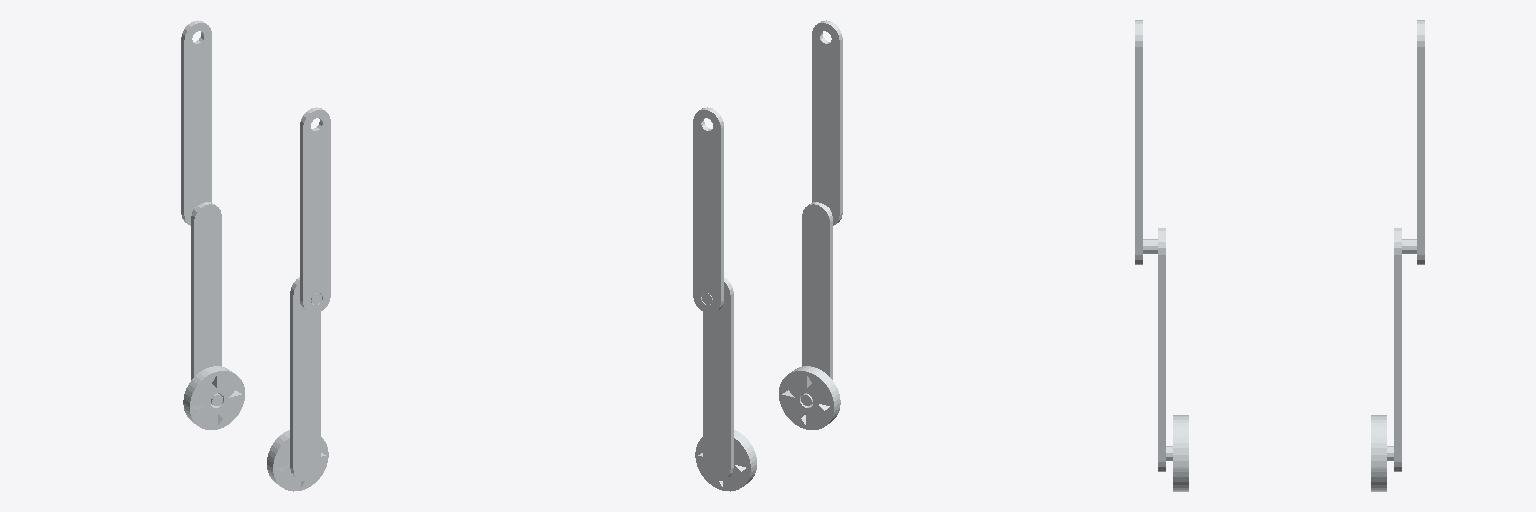
robot.urdf — Vertical_ver_mesh:
<?xml version="1.0" encoding="utf-8"?>
<!-- This URDF was automatically created by SolidWorks to URDF Exporter! Originally created by [author] ([email redacted]) 
     Commit Version: 1.6.0-4-g7f85cfe  Build Version: 1.6.7995.38578
     For more information, please see http://wiki.ros.org/sw_urdf_exporter -->
<robot
  name="Vertical_ver_mesh">
  <link
    name="base_link">
    <inertial>
      <origin
        xyz="0 2.77555756156289E-17 0"
        rpy="0 0 0" />
      <mass
        value="8.15089380098816" />
      <inertia
        ixx="0.0688906731120014"
        ixy="-9.96364855855236E-19"
        ixz="-1.87350135405496E-19"
        iyy="0.0135025446900494"
        iyz="1.95156391047391E-18"
        izz="0.0688906731120014" />
    </inertial>
    <visual>
      <origin
        xyz="0 0 0"
        rpy="0 0 0" />
      <geometry>
        <mesh
          filename="package://Vertical_ver_mesh/meshes/base_link.STL" />
      </geometry>
      <material
        name="">
        <color
          rgba="0.898039215686275 0.917647058823529 0.929411764705882 1" />
      </material>
    </visual>
    <collision>
      <origin
        xyz="0 0 0"
        rpy="0 0 0" />
      <geometry>
        <mesh
          filename="package://Vertical_ver_mesh/meshes/base_link.STL" />
      </geometry>
    </collision>
  </link>
  <link
    name="left_thigh_link">
    <inertial>
      <origin
        xyz="0.15 2.77555756156289E-17 -0.00499999999999995"
        rpy="0 0 0" />
      <mass
        value="0.437487209630772" />
      <inertia
        ixx="9.56832762179494E-05"
        ixy="-6.11750430870803E-21"
        ixz="8.93355061557269E-22"
        iyy="0.00394852049291032"
        iyz="-8.09744522547508E-22"
        izz="0.00403691231563443" />
    </inertial>
    <visual>
      <origin
        xyz="0 0 0"
        rpy="0 0 0" />
      <geometry>
        <mesh
          filename="package://Vertical_ver_mesh/meshes/left_thigh_link.STL" />
      </geometry>
      <material
        name="">
        <color
          rgba="0.898039215686275 0.917647058823529 0.929411764705882 1" />
      </material>
    </visual>
    <collision>
      <origin
        xyz="0 0 0"
        rpy="0 0 0" />
      <geometry>
        <mesh
          filename="package://Vertical_ver_mesh/meshes/left_thigh_link.STL" />
      </geometry>
    </collision>
  </link>
  <joint
    name="left_thigh_joint"
    type="revolute">
    <origin
      xyz="0 0.18 0"
      rpy="1.5707963267949 1.5707963267949 0" />
    <parent
      link="base_link" />
    <child
      link="left_thigh_link" />
    <axis
      xyz="0 0 1" />
    <limit
      lower="-3.14"
      upper="3.14"
      effort="0"
      velocity="0" />
  </joint>
  <link
    name="left_shank_link">
    <inertial>
      <origin
        xyz="0.15 5.55111512312578E-17 0.0350000000000001"
        rpy="0 0 0" />
      <mass
        value="0.508908177017483" />
      <inertia
        ixx="0.000121922183215571"
        ixy="1.31960373453714E-19"
        ixz="-0.000152681402964464"
        iyy="0.00558173116610893"
        iyz="6.67539161878598E-21"
        izz="0.00564767066545193" />
    </inertial>
    <visual>
      <origin
        xyz="0 0 0"
        rpy="0 0 0" />
      <geometry>
        <mesh
          filename="package://Vertical_ver_mesh/meshes/left_shank_link.STL" />
      </geometry>
      <material
        name="">
        <color
          rgba="0.898039215686275 0.917647058823529 0.929411764705882 1" />
      </material>
    </visual>
    <collision>
      <origin
        xyz="0 0 0"
        rpy="0 0 0" />
      <geometry>
        <mesh
          filename="package://Vertical_ver_mesh/meshes/left_shank_link.STL" />
      </geometry>
    </collision>
  </link>
  <joint
    name="left_knee_joint"
    type="revolute">
    <origin
      xyz="0.3 0 -0.01"
      rpy="0 0 0" />
    <parent
      link="left_thigh_link" />
    <child
      link="left_shank_link" />
    <axis
      xyz="0 0 1" />
    <limit
      lower="-3.14"
      upper="3.14"
      effort="0"
      velocity="0" />
  </joint>
  <link
    name="left_wheel_link">
    <inertial>
      <origin
        xyz="-5.55111512312578E-17 1.38777878078145E-16 0.06"
        rpy="0 0 0" />
      <mass
        value="0.370607820219959" />
      <inertia
        ixx="0.000261554099622148"
        ixy="4.66568639571121E-20"
        ixz="4.25241268224465E-21"
        iyy="0.000261554099622148"
        iyz="9.63342209100677E-21"
        izz="0.000498401011229632" />
    </inertial>
    <visual>
      <origin
        xyz="0 0 0"
        rpy="0 0 0" />
      <geometry>
        <mesh
          filename="package://Vertical_ver_mesh/meshes/left_wheel_link.STL" />
      </geometry>
      <material
        name="">
        <color
          rgba="0.898039215686275 0.917647058823529 0.929411764705882 1" />
      </material>
    </visual>
    <collision>
      <origin
        xyz="0 0 0"
        rpy="0 0 0" />
      <geometry>
        <mesh
          filename="package://Vertical_ver_mesh/meshes/left_wheel_link.STL" />
      </geometry>
    </collision>
  </link>
  <joint
    name="left_wheel_joint"
    type="continuous">
    <origin
      xyz="0.3 0 0"
      rpy="0 0 0" />
    <parent
      link="left_shank_link" />
    <child
      link="left_wheel_link" />
    <axis
      xyz="0 0 1" />
  </joint>
  <link
    name="right_thigh_link">
    <inertial>
      <origin
        xyz="0.15 -3.77475828372553E-15 0.005"
        rpy="0 0 0" />
      <mass
        value="0.437487209630772" />
      <inertia
        ixx="9.56832762179493E-05"
        ixy="-6.11750430870793E-21"
        ixz="8.09603024536317E-22"
        iyy="0.00394852049291032"
        iyz="1.07202607386873E-21"
        izz="0.00403691231563442" />
    </inertial>
    <visual>
      <origin
        xyz="0 0 0"
        rpy="0 0 0" />
      <geometry>
        <mesh
          filename="package://Vertical_ver_mesh/meshes/right_thigh_link.STL" />
      </geometry>
      <material
        name="">
        <color
          rgba="0.898039215686275 0.917647058823529 0.929411764705882 1" />
      </material>
    </visual>
    <collision>
      <origin
        xyz="0 0 0"
        rpy="0 0 0" />
      <geometry>
        <mesh
          filename="package://Vertical_ver_mesh/meshes/right_thigh_link.STL" />
      </geometry>
    </collision>
  </link>
  <joint
    name="right_hip_joint"
    type="revolute">
    <origin
      xyz="0 -0.18 0"
      rpy="1.5707963267949 1.5707963267949 0" />
    <parent
      link="base_link" />
    <child
      link="right_thigh_link" />
    <axis
      xyz="0 0 -1" />
    <limit
      lower="-3.14"
      upper="3.14"
      effort="0"
      velocity="0" />
  </joint>
  <link
    name="right_shank_link">
    <inertial>
      <origin
        xyz="0.15 -2.77555756156289E-17 -0.035"
        rpy="0 0 0" />
      <mass
        value="0.508908177017482" />
      <inertia
        ixx="0.000121922183215571"
        ixy="8.70265230160587E-20"
        ixz="0.000152681402964464"
        iyy="0.00558173116610893"
        iyz="-4.29333271220474E-21"
        izz="0.00564767066545193" />
    </inertial>
    <visual>
      <origin
        xyz="0 0 0"
        rpy="0 0 0" />
      <geometry>
        <mesh
          filename="package://Vertical_ver_mesh/meshes/right_shank_link.STL" />
      </geometry>
      <material
        name="">
        <color
          rgba="0.898039215686275 0.917647058823529 0.929411764705882 1" />
      </material>
    </visual>
    <collision>
      <origin
        xyz="0 0 0"
        rpy="0 0 0" />
      <geometry>
        <mesh
          filename="package://Vertical_ver_mesh/meshes/right_shank_link.STL" />
      </geometry>
    </collision>
  </link>
  <joint
    name="right_knee_joint"
    type="revolute">
    <origin
      xyz="0.3 0 0.01"
      rpy="0 0 0" />
    <parent
      link="right_thigh_link" />
    <child
      link="right_shank_link" />
    <axis
      xyz="0 0 1" />
    <limit
      lower="-3.14"
      upper="3.14"
      effort="0"
      velocity="0" />
  </joint>
  <link
    name="right_wheel_link">
    <inertial>
      <origin
        xyz="-1.66533453693773E-16 -2.77555756156289E-17 -0.06"
        rpy="0 0 0" />
      <mass
        value="0.370607820219958" />
      <inertia
        ixx="0.000261554099622148"
        ixy="5.6951385174276E-20"
        ixz="-2.37921577684259E-23"
        iyy="0.000261554099622148"
        iyz="5.98226473475898E-21"
        izz="0.000498401011229632" />
    </inertial>
    <visual>
      <origin
        xyz="0 0 0"
        rpy="0 0 0" />
      <geometry>
        <mesh
          filename="package://Vertical_ver_mesh/meshes/right_wheel_link.STL" />
      </geometry>
      <material
        name="">
        <color
          rgba="0.898039215686275 0.917647058823529 0.929411764705882 1" />
      </material>
    </visual>
    <collision>
      <origin
        xyz="0 0 0"
        rpy="0 0 0" />
      <geometry>
        <mesh
          filename="package://Vertical_ver_mesh/meshes/right_wheel_link.STL" />
      </geometry>
    </collision>
  </link>
  <joint
    name="right_wheel_joint"
    type="continuous">
    <origin
      xyz="0.3 0 0"
      rpy="0 0 0" />
    <parent
      link="right_shank_link" />
    <child
      link="right_wheel_link" />
    <axis
      xyz="0 0 -1" />
  </joint>
</robot>

--- Render facts (derived) ---
The picture shows the robot from 3 angles, left to right: view 1: azimuth 30°, elevation 25°; view 2: azimuth 150°, elevation 25°; view 3: azimuth 270°, elevation 25°; orthographic projection.
Model Vertical_ver_mesh with 7 links and 6 joints (4 revolute, 2 continuous), rooted at base_link, posed all joints at 0.
Visible links, largest first — view 1: right_thigh_link, left_thigh_link, right_shank_link, left_shank_link, left_wheel_link, right_wheel_link; view 2: left_thigh_link, right_thigh_link, left_shank_link, right_shank_link, right_wheel_link, left_wheel_link; view 3: left_shank_link, right_shank_link, left_thigh_link, right_thigh_link, left_wheel_link, right_wheel_link.
Boxes of the visible links, bbox=[...] form: right_thigh_link: bbox=[300, 107, 330, 313]; left_thigh_link: bbox=[181, 20, 211, 225]; right_shank_link: bbox=[290, 277, 321, 480]; left_shank_link: bbox=[191, 202, 222, 405]; left_wheel_link: bbox=[183, 366, 244, 429]; right_wheel_link: bbox=[267, 430, 328, 491]; left_thigh_link: bbox=[693, 107, 723, 313]; right_thigh_link: bbox=[812, 20, 842, 225]; left_shank_link: bbox=[702, 277, 733, 480]; right_shank_link: bbox=[801, 202, 832, 405]; right_wheel_link: bbox=[779, 366, 840, 429]; left_wheel_link: bbox=[695, 430, 756, 491]; left_shank_link: bbox=[1387, 228, 1416, 471]; right_shank_link: bbox=[1143, 228, 1172, 471]; left_thigh_link: bbox=[1417, 20, 1424, 264]; right_thigh_link: bbox=[1135, 20, 1142, 264]; left_wheel_link: bbox=[1371, 415, 1386, 491]; right_wheel_link: bbox=[1173, 415, 1188, 491].
Bounding box of the posed robot: 0.1 × 0.38 × 0.6746 m (x, y, z).
6 mesh visuals loaded from 7 distinct referenced files (6 binary STL); not drawn: 1 (reference not matched to a file when rendering).